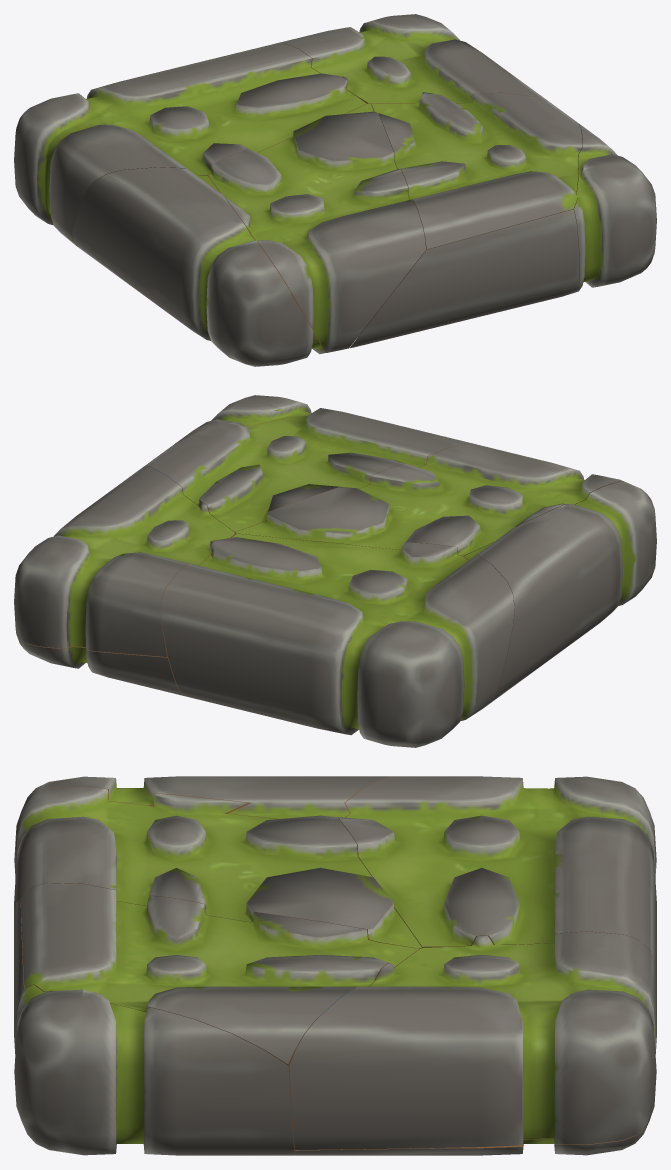
Rendered from arena block 5 broken.fbx.
3 renders of one model, top to bottom at view 1: azimuth 30°, elevation 25°; view 2: azimuth 150°, elevation 25°; view 3: azimuth 270°, elevation 25°, orthographic. The views are drawn at different scales.
Parts seen in each view (by area): view 1: arena block 5 lp.002_cell.004, arena block 5 lp.002_cell.005, arena block 5 lp.002_cell.001, arena block 5 lp.002_cell.003, arena block 5 lp.002_cell.007, arena block 5 lp.002_cell.002, arena block 5 lp.002_cell; view 2: arena block 5 lp.002_cell.004, arena block 5 lp.002_cell.002, arena block 5 lp.002_cell.005, arena block 5 lp.002_cell.001, arena block 5 lp.002_cell.003, arena block 5 lp.002_cell.006, arena block 5 lp.002_cell; view 3: arena block 5 lp.002_cell.002, arena block 5 lp.002_cell.004, arena block 5 lp.002_cell.003, arena block 5 lp.002_cell, arena block 5 lp.002_cell.005, arena block 5 lp.002_cell.001, arena block 5 lp.002_cell.006, arena block 5 lp.002_cell.007.
Boxes of the visible parts, <box> form: arena block 5 lp.002_cell.004: <box>14,42,366,247</box>; arena block 5 lp.002_cell.005: <box>208,103,426,352</box>; arena block 5 lp.002_cell.001: <box>71,167,325,366</box>; arena block 5 lp.002_cell.003: <box>371,93,582,254</box>; arena block 5 lp.002_cell.007: <box>350,209,579,348</box>; arena block 5 lp.002_cell.002: <box>276,14,549,103</box>; arena block 5 lp.002_cell: <box>573,123,656,292</box>; arena block 5 lp.002_cell.004: <box>161,533,514,747</box>; arena block 5 lp.002_cell.002: <box>14,466,235,656</box>; arena block 5 lp.002_cell.005: <box>235,443,624,556</box>; arena block 5 lp.002_cell.001: <box>464,481,656,705</box>; arena block 5 lp.002_cell.003: <box>144,408,476,534</box>; arena block 5 lp.002_cell.006: <box>18,640,184,696</box>; arena block 5 lp.002_cell: <box>173,395,311,445</box>; arena block 5 lp.002_cell.002: <box>289,931,656,1149</box>; arena block 5 lp.002_cell.004: <box>338,776,656,991</box>; arena block 5 lp.002_cell.003: <box>20,883,419,1071</box>; arena block 5 lp.002_cell: <box>14,985,295,1155</box>; arena block 5 lp.002_cell.005: <box>14,786,422,948</box>; arena block 5 lp.002_cell.001: <box>14,776,389,878</box>; arena block 5 lp.002_cell.006: <box>295,1109,653,1155</box>; arena block 5 lp.002_cell.007: <box>14,899,24,1053</box>.
Size of the model in its own units: 200 by 49.94 by 200.
